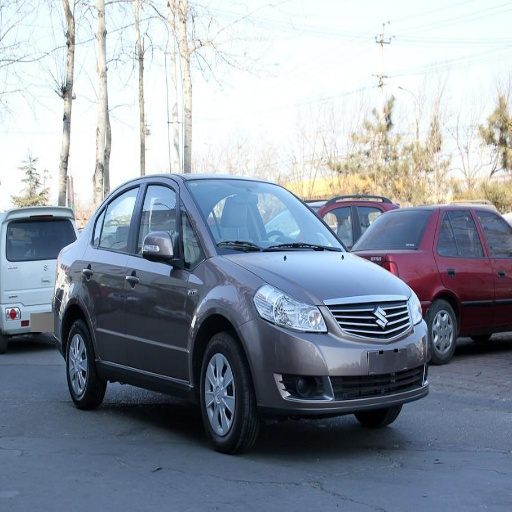front_bumper: (243, 297, 431, 419)
front_right_door: (125, 180, 203, 378), (483, 212, 509, 299)
front_right_light: (256, 283, 326, 332)
